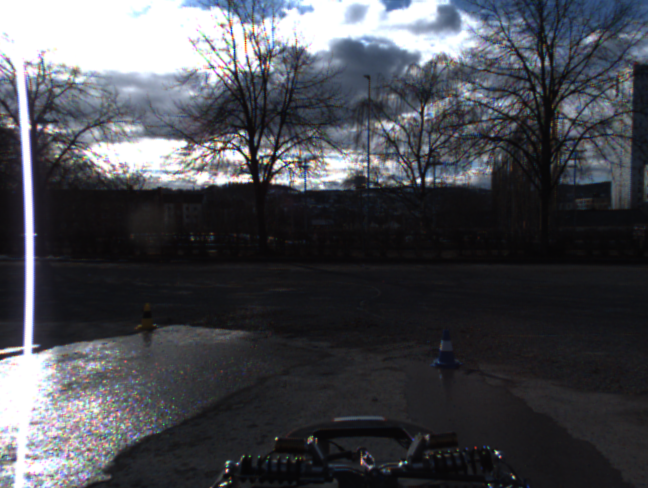cone-small-blue: (432, 326, 462, 368)
cone-small-yellow: (136, 302, 157, 329)
